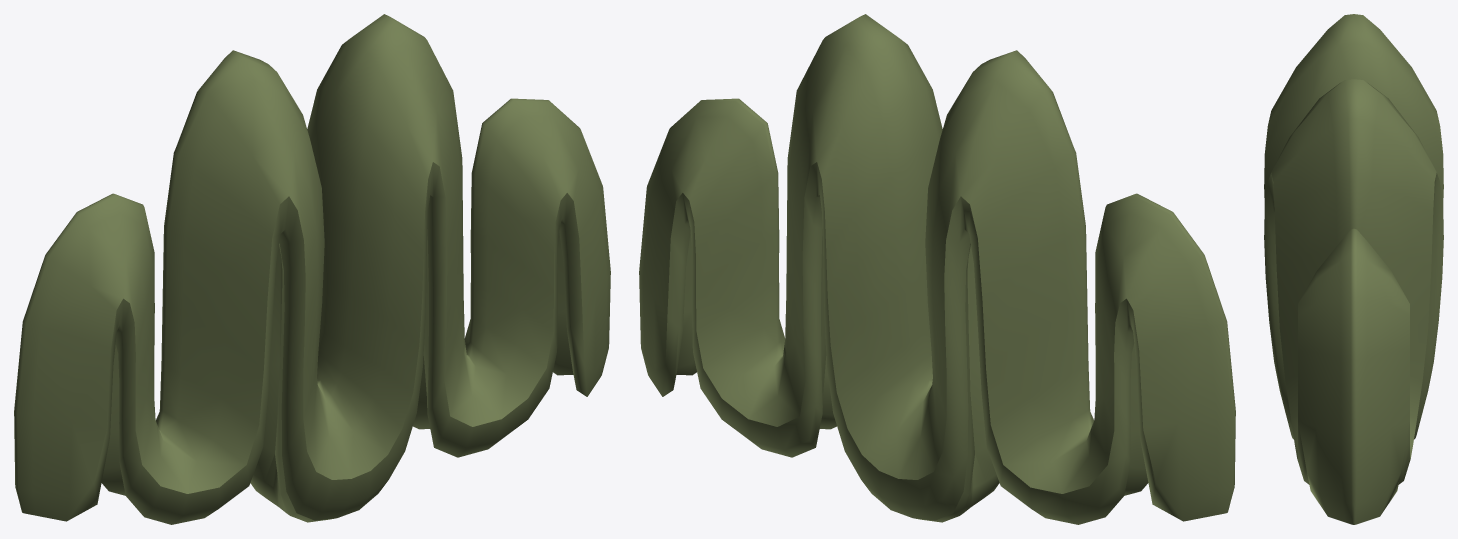
File: decor-crystals.glb
3 views of the same model, side by side, from view 1: azimuth 30°, elevation 25°; view 2: azimuth 150°, elevation 25°; view 3: azimuth 270°, elevation 25° (orthographic). The views are drawn at different scales.
Visible parts, largest first — view 1: Bush_1; view 2: Bush_1; view 3: Bush_1.
Boxes of the visible parts, x1=… form: Bush_1: x1=14, y1=14, x2=610, y2=524; Bush_1: x1=639, y1=14, x2=1235, y2=524; Bush_1: x1=1264, y1=14, x2=1443, y2=524.
Size of the model in its own units: 2.63 by 2 by 0.7906.
1 material, 1 textured.
